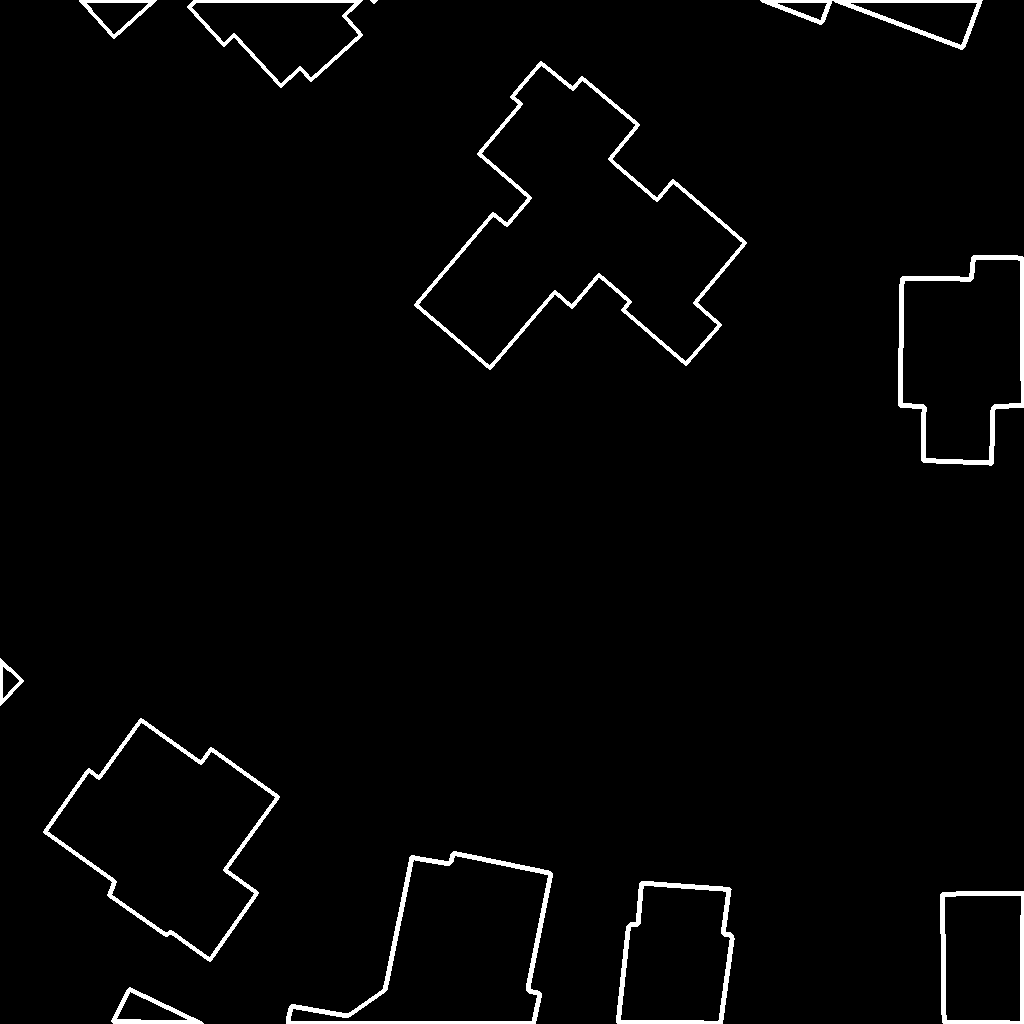building: (416, 63, 746, 369), (45, 720, 279, 961), (288, 853, 552, 1024), (80, 0, 377, 87), (900, 257, 1024, 464), (618, 883, 733, 1024), (761, 0, 982, 49), (942, 893, 1024, 1024), (113, 989, 203, 1024), (0, 660, 23, 705)
